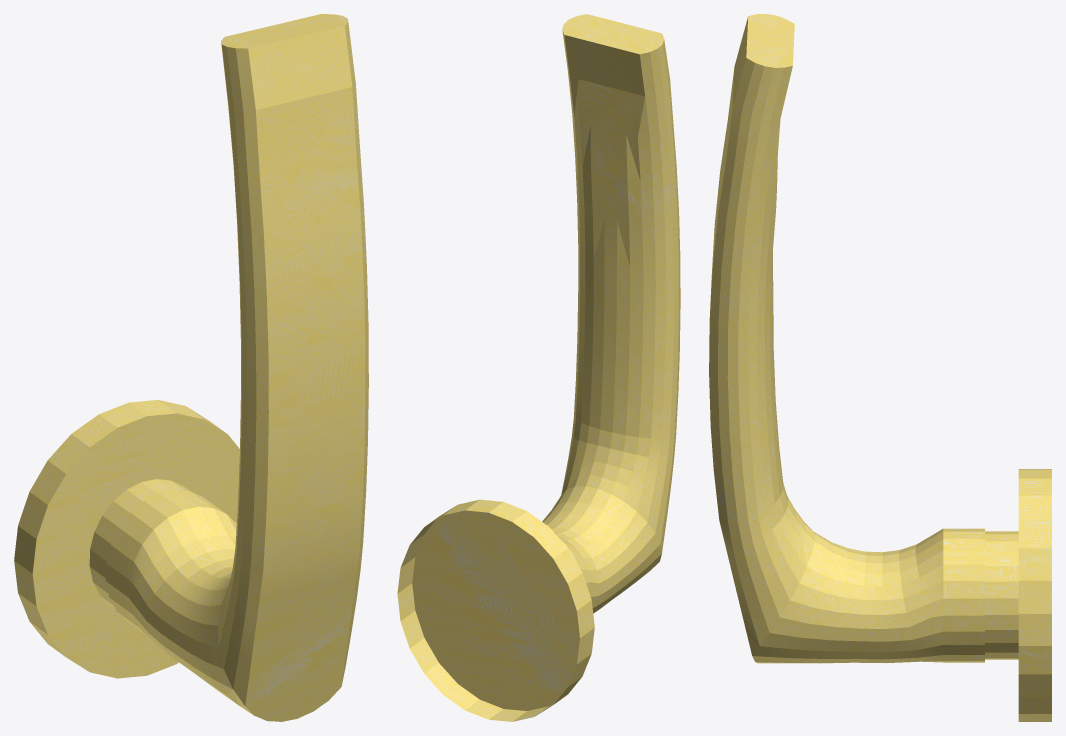
3 views of the same model, side by side, from view 1: azimuth 30°, elevation 25°; view 2: azimuth 150°, elevation 25°; view 3: azimuth 270°, elevation 25° (orthographic). The views are drawn at different scales.
Parts seen in each view (by area): view 1: group_3.021, group_3.022, group_3.020; view 2: group_3.021, group_3.022; view 3: group_3.021, group_3.022, group_3.020.
Boxes of the visible parts, left/top/right/bottom form: group_3.021: left=105, top=14, right=368, bottom=721; group_3.022: left=14, top=400, right=239, bottom=678; group_3.020: left=89, top=479, right=189, bottom=608; group_3.021: left=542, top=14, right=680, bottom=613; group_3.022: left=397, top=499, right=594, bottom=721; group_3.021: left=709, top=14, right=984, bottom=663; group_3.022: left=1018, top=469, right=1051, bottom=721; group_3.020: left=985, top=531, right=1018, bottom=659.
Size of the model in its own units: 0.0445 by 0.0641 by 0.1392.
